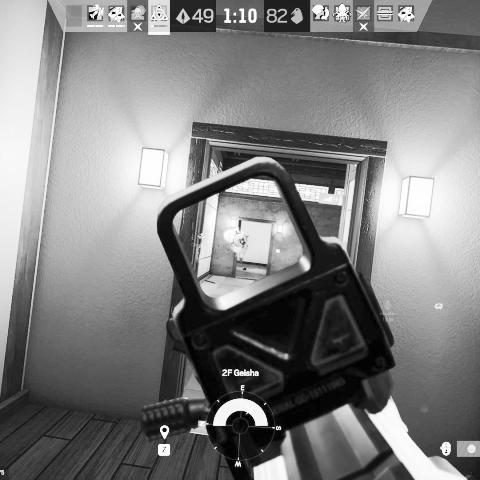Character: (237, 237, 249, 266)
Friend_label: (191, 232, 213, 247)
Head: (240, 238, 245, 243)
